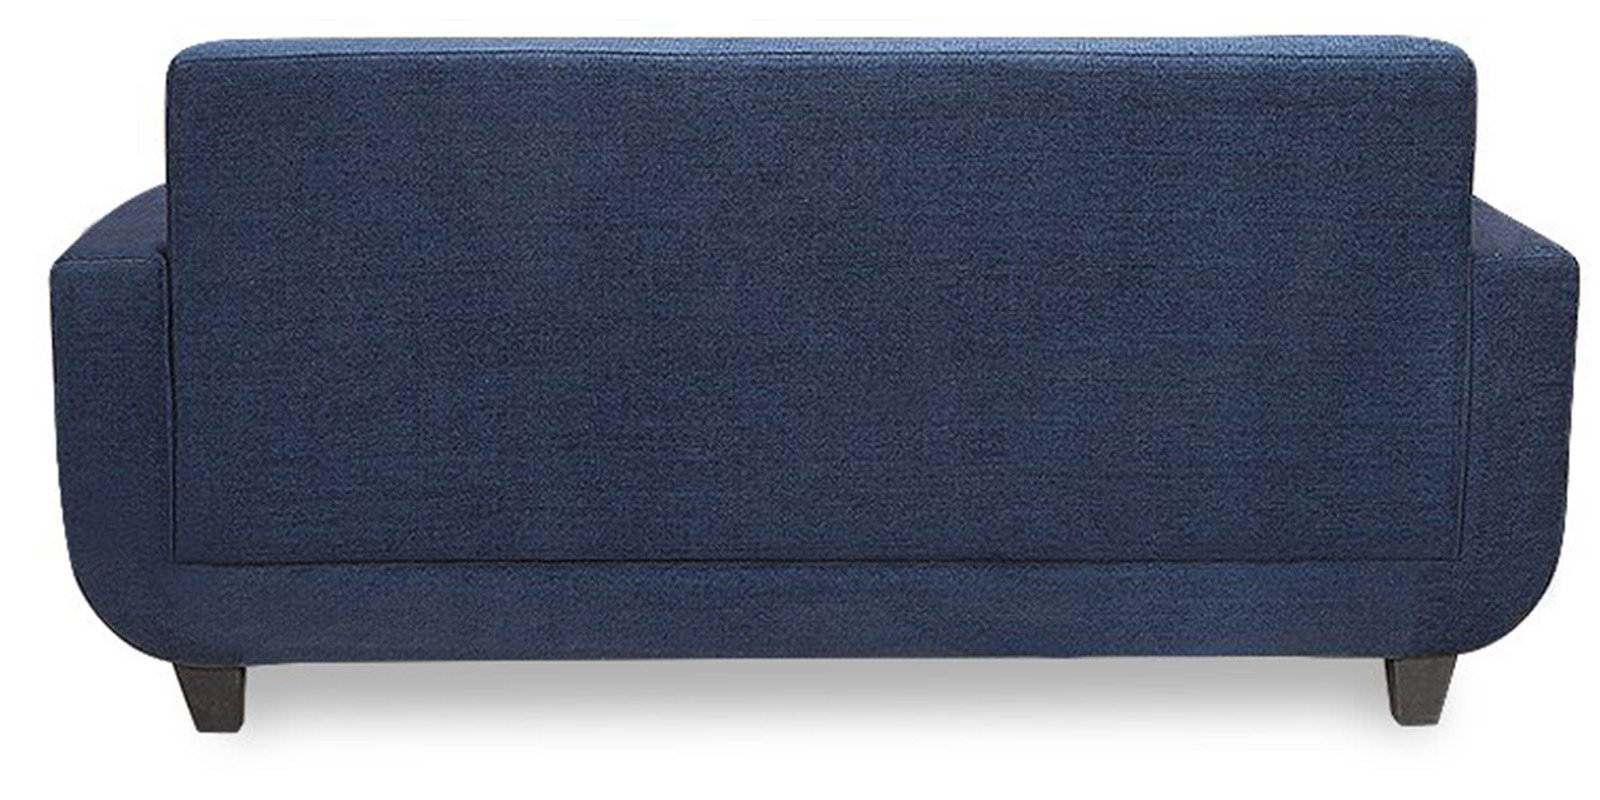Berlin Three Seater Sofa in Blue Colour by Crystal Furnitech: (16, 27, 1587, 763)
